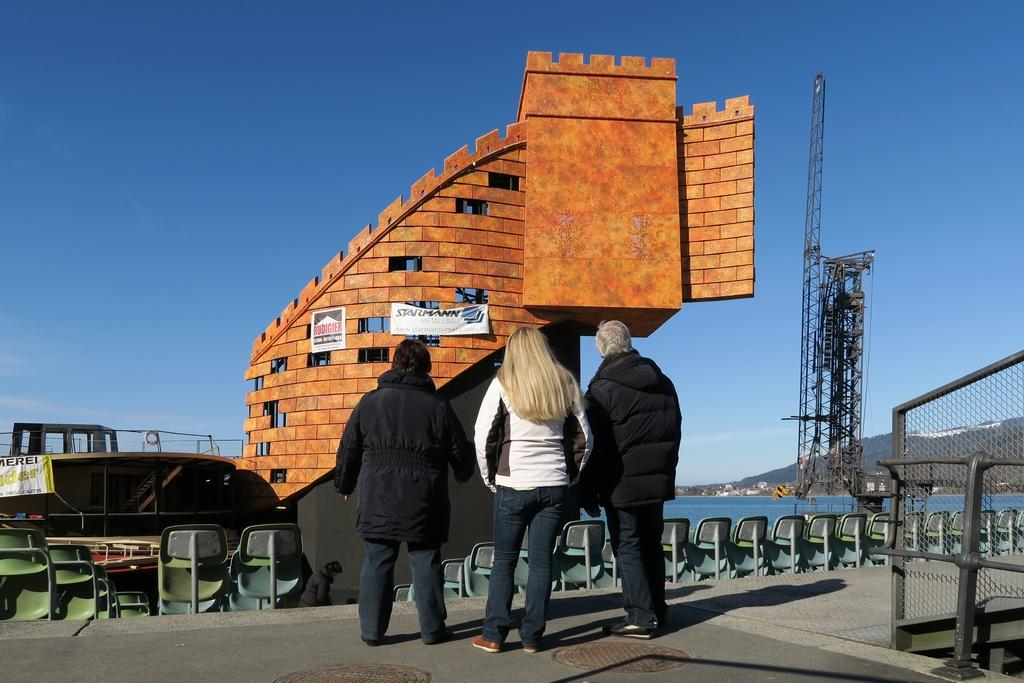Chair: (394, 509, 1023, 602), (0, 528, 296, 620), (232, 517, 314, 609), (161, 525, 229, 613), (0, 548, 56, 617)
